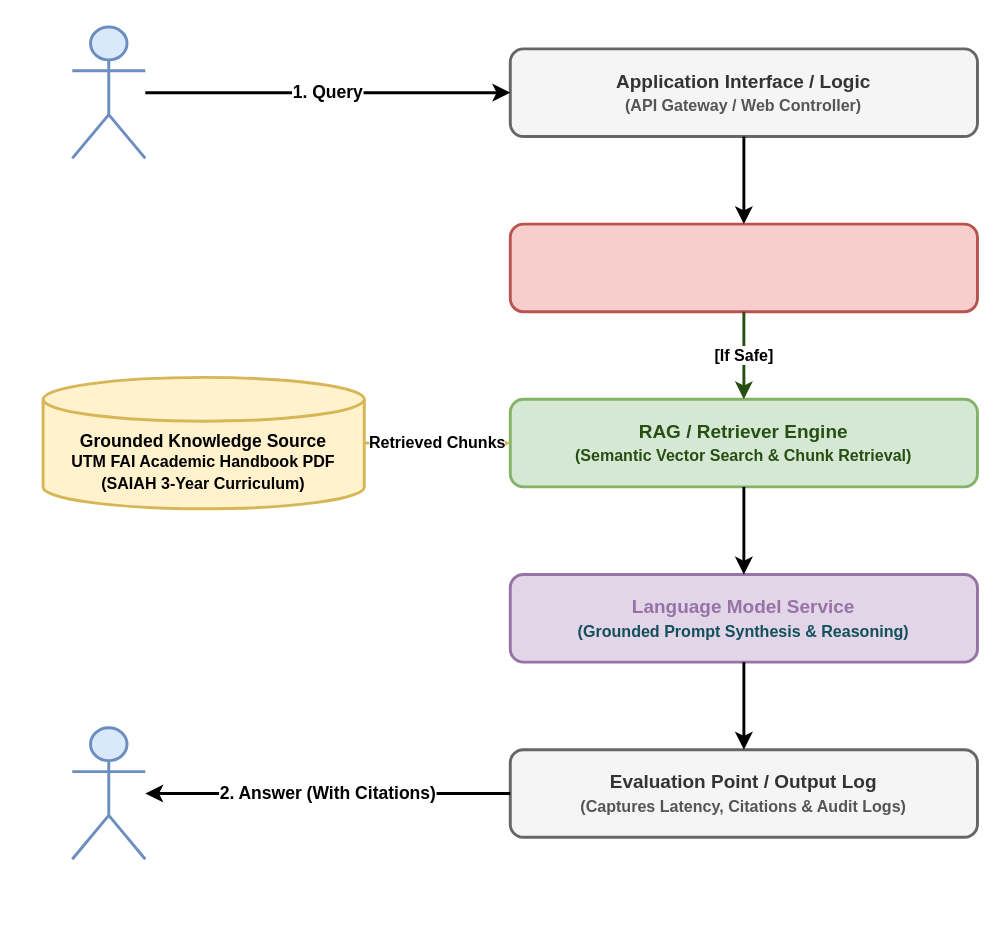
This 1004x936 diagram has some shape labels left out. Here are the shapes that lost their labels. From the top down, the box of each, then its label:
(70, 25, 146, 159): Student / User (Academic Query)
(508, 222, 978, 312): Scope & Safety Control Guard (Filters Out-of-Scope & Non-Academic Queries)
(70, 726, 146, 860): Student / User (Receives Response)
